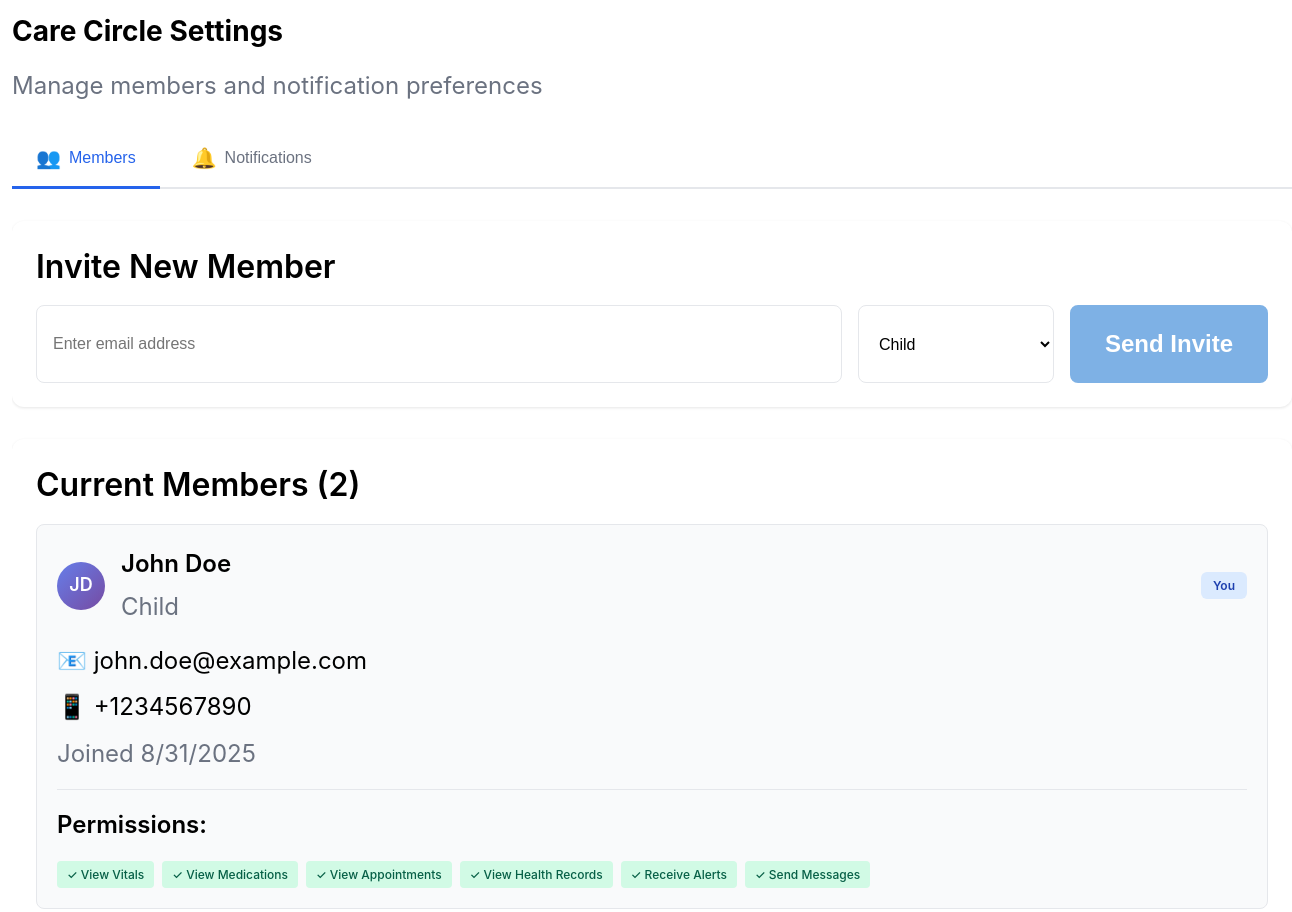
Scenario: CareCircleSettingsWidget › Notification Preferences › should display notification channels
Expected: the heading "Care Circle Settings" is shown, [12,14,283,48]
Click the button "🔔 Notifications". click: (252, 159)
box: [168,130,336,189]
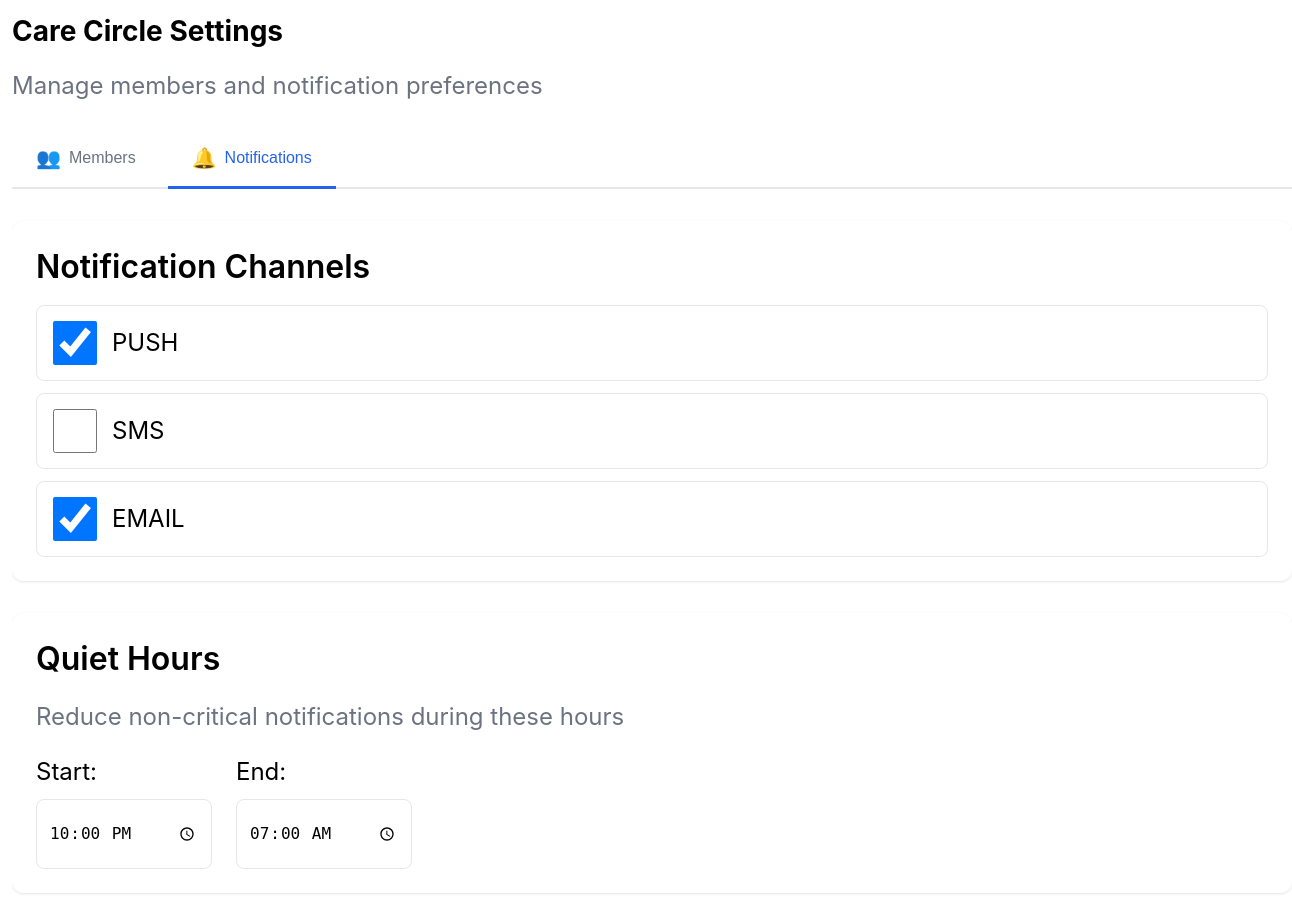
Result: the text "PUSH" is shown at [112,324,178,363]
Result: the text "SMS" is shown at [112,412,164,451]
Result: the text "EMAIL" is shown at [112,500,185,539]
